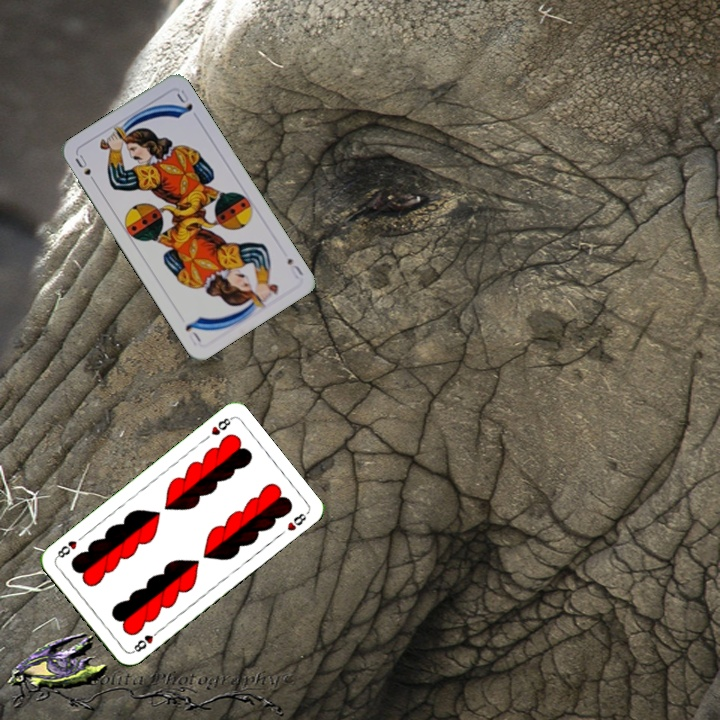H8: (128, 626, 163, 656), (207, 413, 235, 438)
SU: (71, 150, 99, 187), (283, 254, 305, 281)
